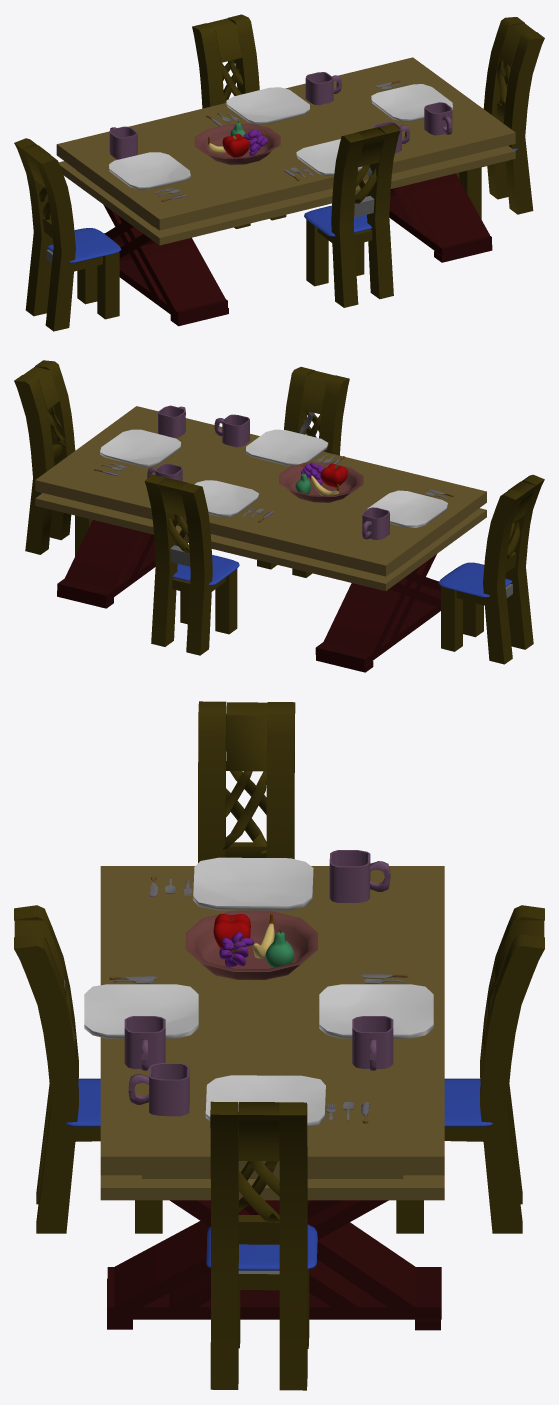
Rendered from everything fruity.fbx.
The picture shows the model from 3 angles, top to bottom: view 1: azimuth 30°, elevation 25°; view 2: azimuth 150°, elevation 25°; view 3: azimuth 270°, elevation 25°; orthographic projection. The views are drawn at different scales.
Visible parts, largest first — view 1: Empty_Mesh_1, Empty_Mesh; view 2: Empty_Mesh_1, Empty_Mesh; view 3: Empty_Mesh_1, Empty_Mesh.
Boxes of the visible parts, box(x1,y1,x2,y2) form: Empty_Mesh_1: box(14, 14, 544, 331); Empty_Mesh: box(194, 72, 409, 180); Empty_Mesh_1: box(14, 360, 544, 672); Empty_Mesh: box(147, 414, 363, 522); Empty_Mesh_1: box(14, 701, 544, 1390); Empty_Mesh: box(84, 910, 433, 1070).
Size of the model in its own units: 1488 by 482 by 807.
